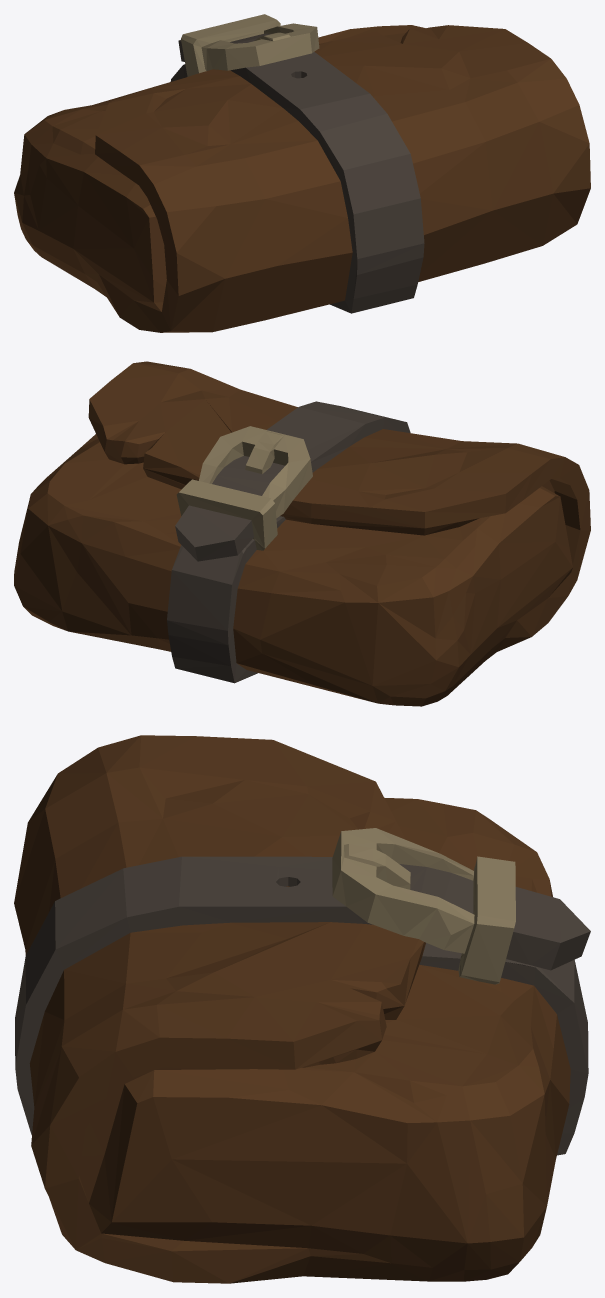
File: LeatherBag_2.fbx
3 renders of one model, top to bottom at view 1: azimuth 30°, elevation 25°; view 2: azimuth 150°, elevation 25°; view 3: azimuth 270°, elevation 25°, orthographic. The views are drawn at different scales.
Visible parts, largest first — view 1: LeatherBag_2; view 2: LeatherBag_2; view 3: LeatherBag_2.
Part boxes in pixels (x1=…): LeatherBag_2: x1=14, y1=14, x2=590, y2=332; LeatherBag_2: x1=14, y1=361, x2=590, y2=706; LeatherBag_2: x1=14, y1=735, x2=590, y2=1283.
Bounding box in the file's own units: 0.2705 × 0.2056 × 0.117.
